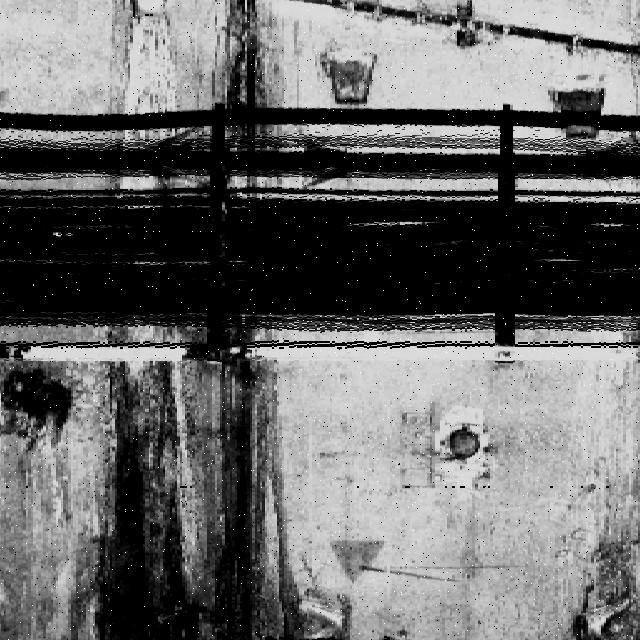leakage: (93, 354, 325, 640), (573, 355, 640, 640), (196, 1, 293, 197), (1, 357, 81, 451)
